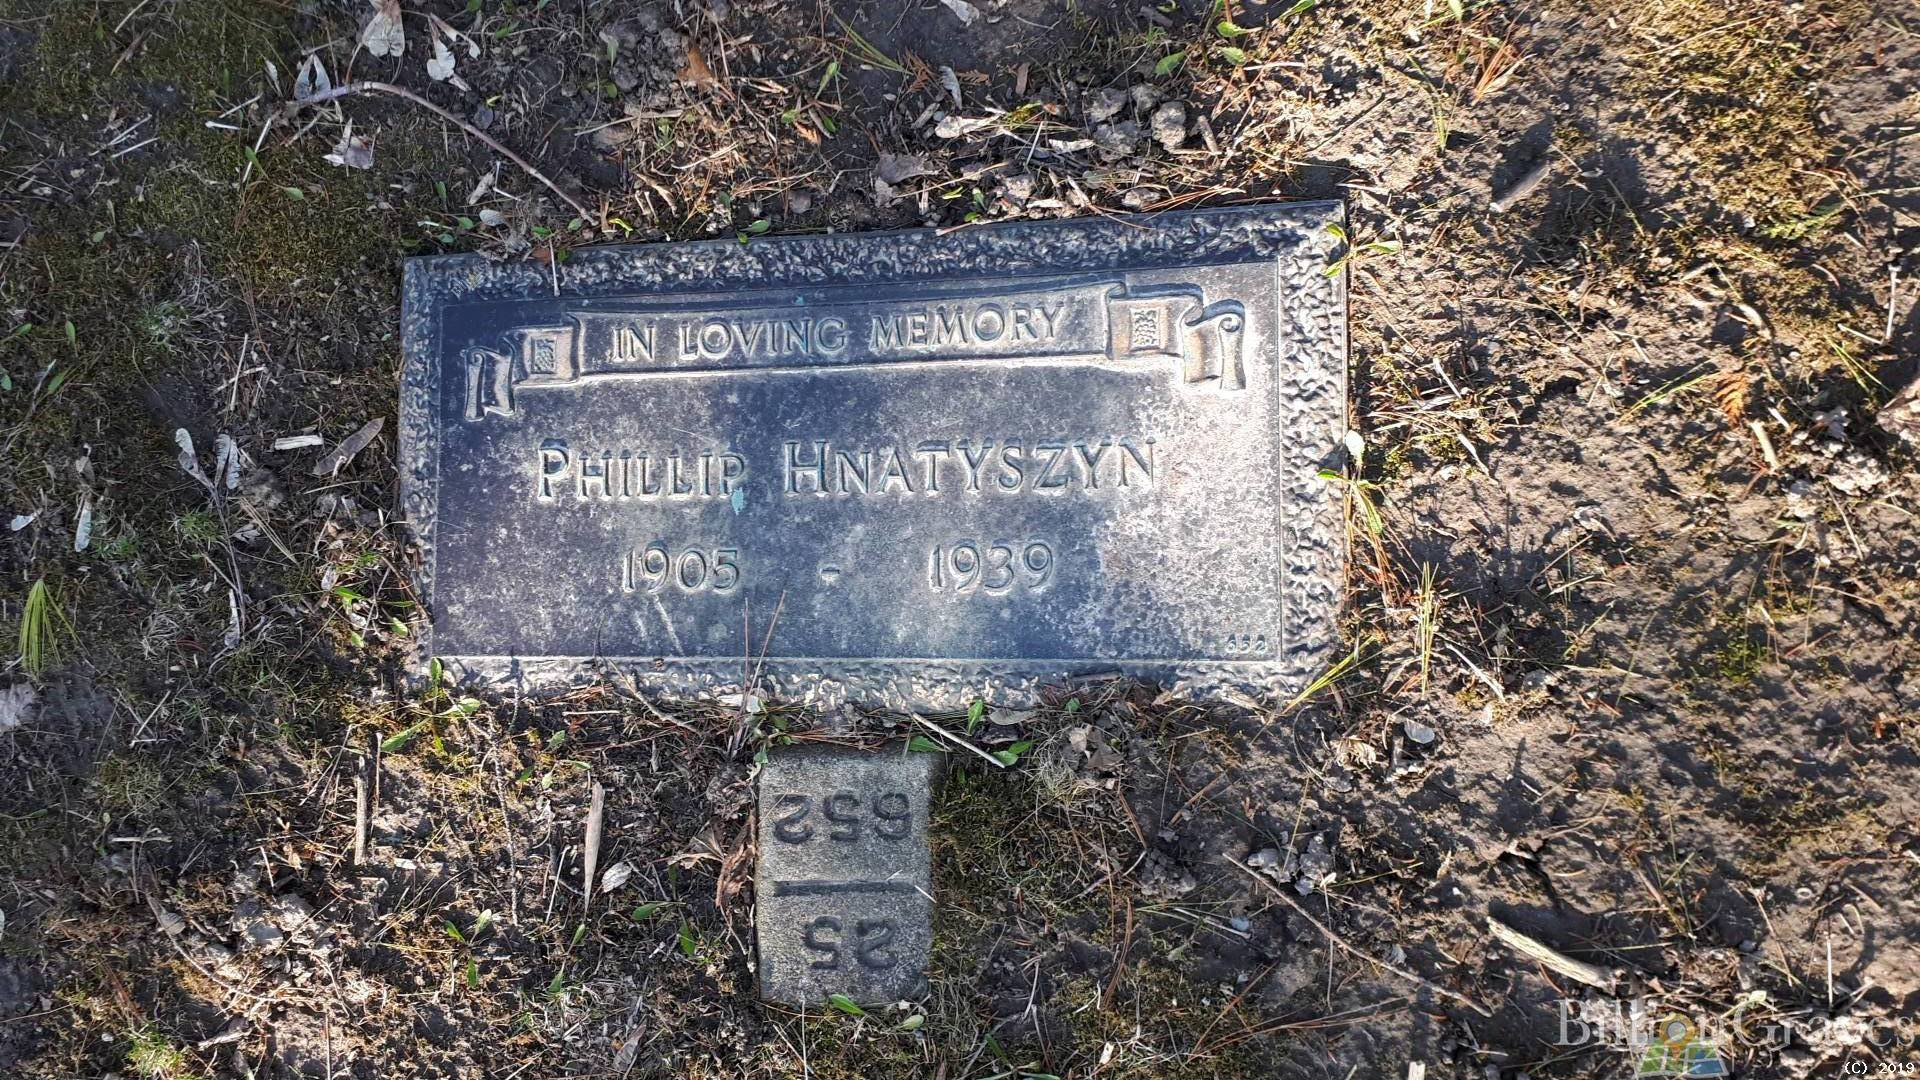flat: (396, 196, 1352, 715)
